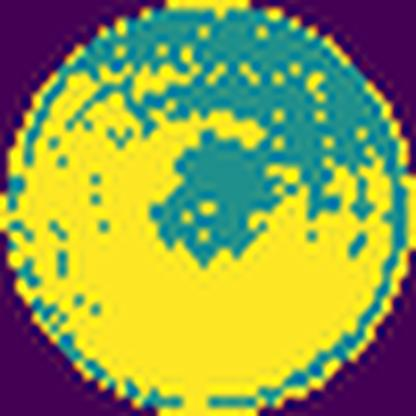Donut: (10, 20, 405, 411)
